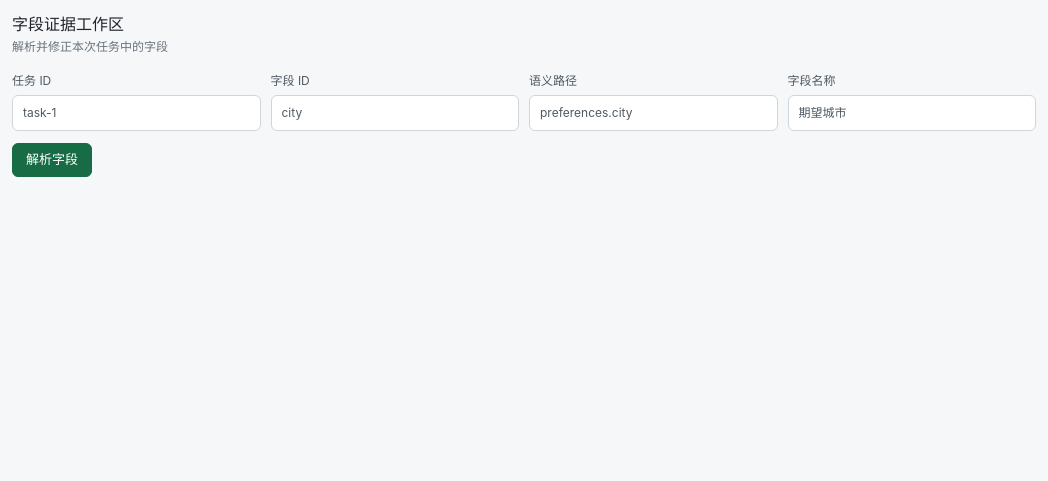
it: RagWorkspace › shows planning, decision, question and evidence, then applies a task correction
This screenshot has width=1048, height=481.
Click the button "解析字段" at (52, 160), box [12, 143, 92, 177]
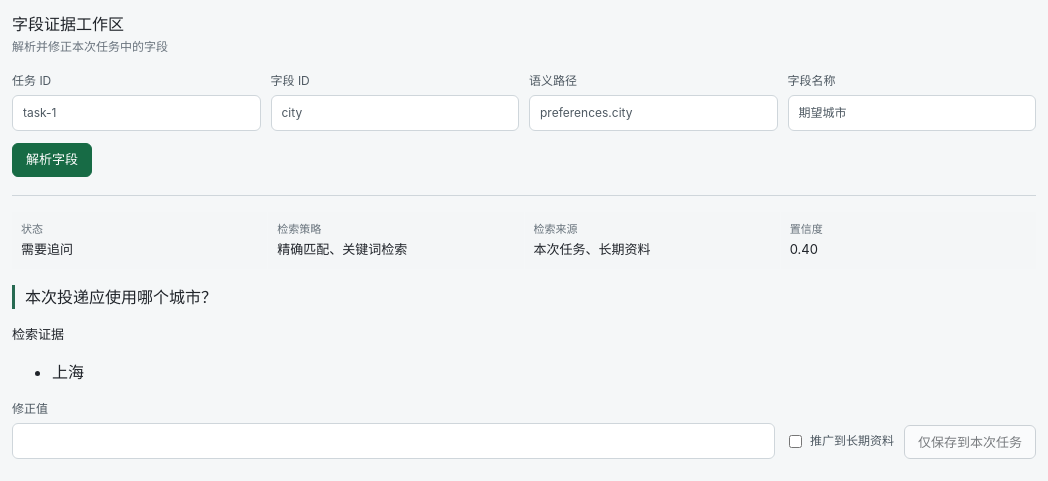
expect the text "需要追问" is shown: met, box [21, 241, 73, 257]
expect the text "精确匹配、关键词检索" is shown: met, box [277, 241, 407, 257]
expect the text "本次投递应使用哪个城市？" is shown: met, box [12, 285, 1036, 309]
Type "深圳" into the field labelled "修正值" at (394, 441), box [12, 423, 775, 459]
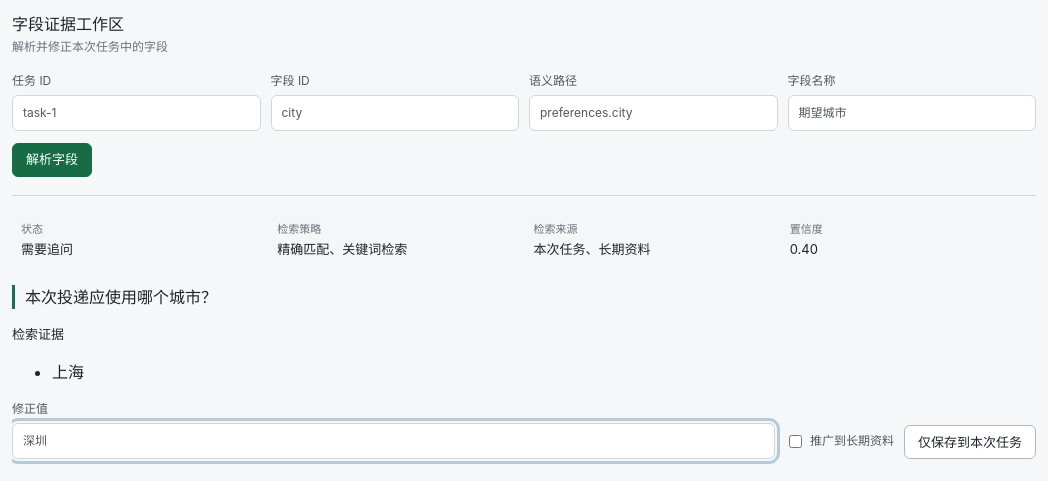
Click the button "仅保存到本次任务" at (970, 442), box [904, 425, 1036, 459]
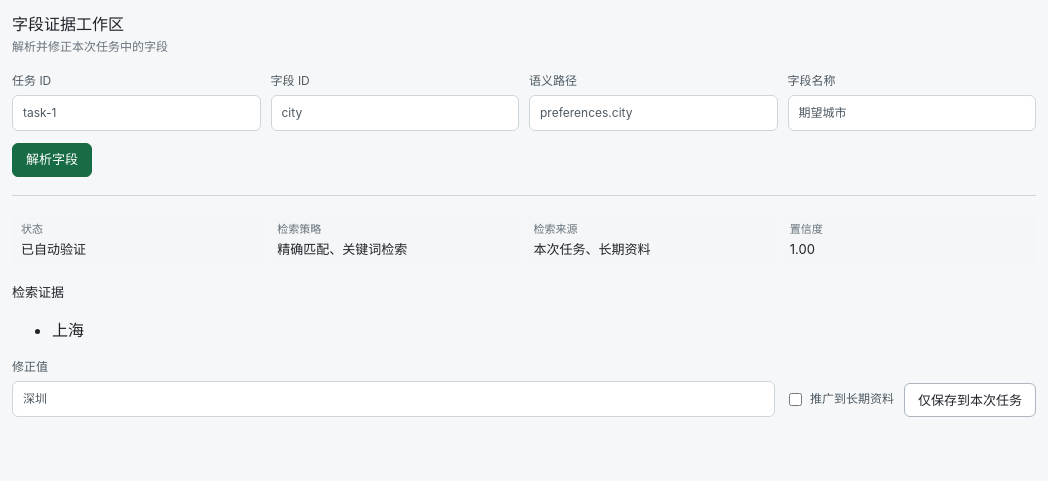
expect the text "已自动验证" is shown: met, box [21, 241, 86, 257]
